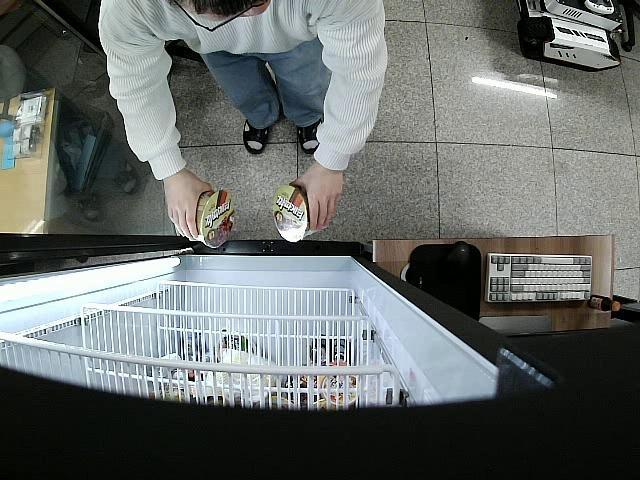03_chapagetti_L: (196, 190, 234, 250), (274, 184, 312, 244)
